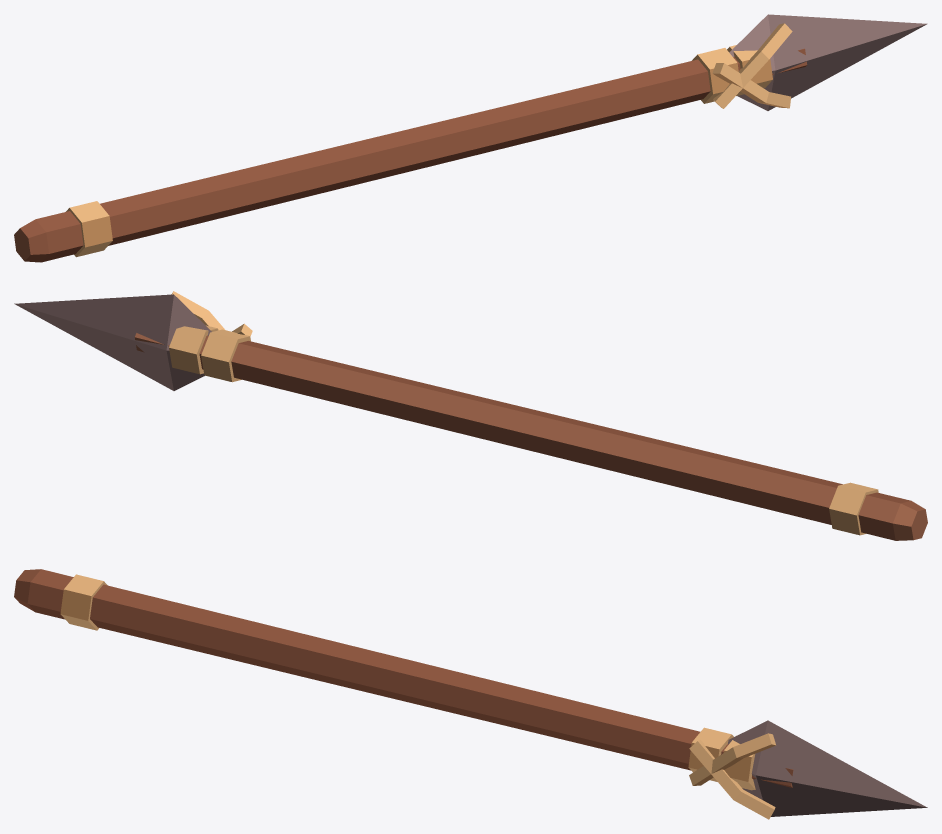
The model's file is Stone_Spear.glb.
3 views of the same model, one above another, from view 1: azimuth 30°, elevation 25°; view 2: azimuth 150°, elevation 25°; view 3: azimuth 330°, elevation 25° (orthographic).
Parts seen in each view (by area): view 1: Faceted shaft, Low-poly point, Pale binding, Pale cross lashing, Pale cross lashing.001, Pale binding.001, Pale binding.002; view 2: Faceted shaft, Low-poly point, Pale binding.001, Pale binding, Pale binding.002, Pale cross lashing; view 3: Faceted shaft, Low-poly point, Pale binding, Pale cross lashing.001, Pale cross lashing, Pale binding.001, Pale binding.002.
Part boxes in pixels (x1,y1,x2,y2): Faceted shaft: [14, 48, 807, 262]; Low-poly point: [729, 14, 927, 110]; Pale binding: [66, 201, 112, 257]; Pale cross lashing: [713, 23, 792, 108]; Pale cross lashing.001: [712, 63, 790, 108]; Pale binding.001: [692, 48, 738, 103]; Pale binding.002: [727, 45, 772, 95]; Faceted shaft: [134, 333, 927, 540]; Low-poly point: [14, 294, 211, 390]; Pale binding.001: [201, 329, 250, 382]; Pale binding: [829, 482, 878, 535]; Pale binding.002: [169, 325, 218, 374]; Pale cross lashing: [171, 291, 224, 330]; Faceted shaft: [14, 569, 793, 787]; Low-poly point: [728, 720, 927, 816]; Pale binding: [60, 574, 107, 630]; Pale cross lashing.001: [689, 740, 775, 819]; Pale cross lashing: [689, 733, 775, 785]; Pale binding.001: [688, 727, 733, 781]; Pale binding.002: [723, 735, 755, 790].
Size of the model in its own units: 2.25 by 0.23 by 0.1237.
1 material, 1 textured.
